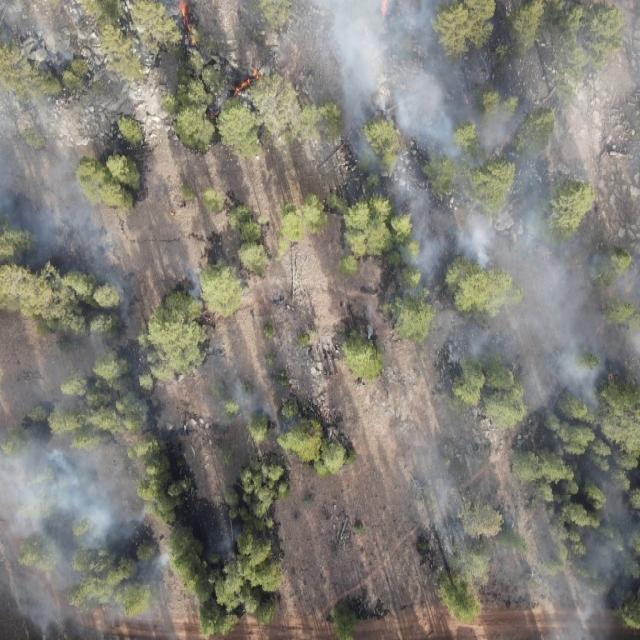fire: (176, 0, 202, 46), (229, 68, 263, 100), (491, 132, 511, 160), (460, 90, 473, 112), (376, 0, 390, 18), (604, 370, 618, 384), (210, 109, 220, 122)
smoke: (420, 0, 640, 411), (308, 0, 507, 278), (0, 0, 135, 329), (0, 422, 166, 640), (507, 482, 639, 640), (406, 436, 484, 566), (212, 374, 296, 444), (174, 254, 214, 314), (194, 523, 243, 561), (260, 287, 287, 315), (362, 302, 377, 343)
